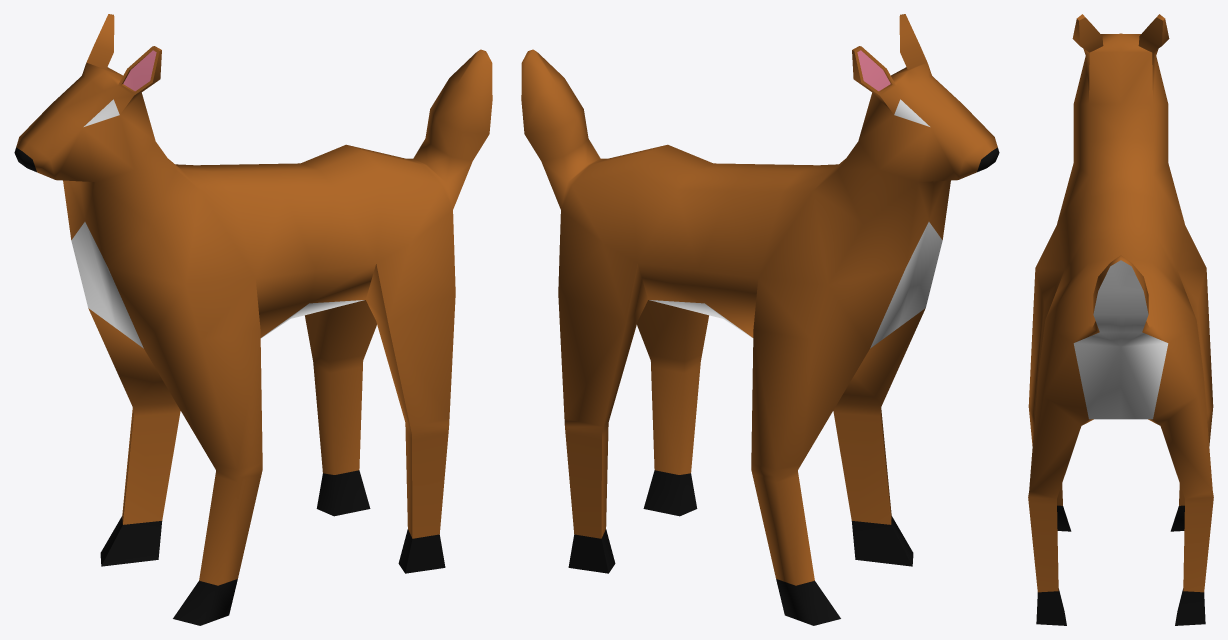
Rendered from Deer.fbx.
3 views of the same model, side by side, from view 1: azimuth 30°, elevation 25°; view 2: azimuth 150°, elevation 25°; view 3: azimuth 270°, elevation 25° (orthographic). The views are drawn at different scales.
Visible parts, largest first — view 1: Deer; view 2: Deer; view 3: Deer.
Part boxes in pixels (<box>): Deer: <box>14,14,492,625</box>; Deer: <box>521,14,999,625</box>; Deer: <box>1028,14,1213,625</box>.
Bounding box in the file's own units: 313 × 363 × 123.
